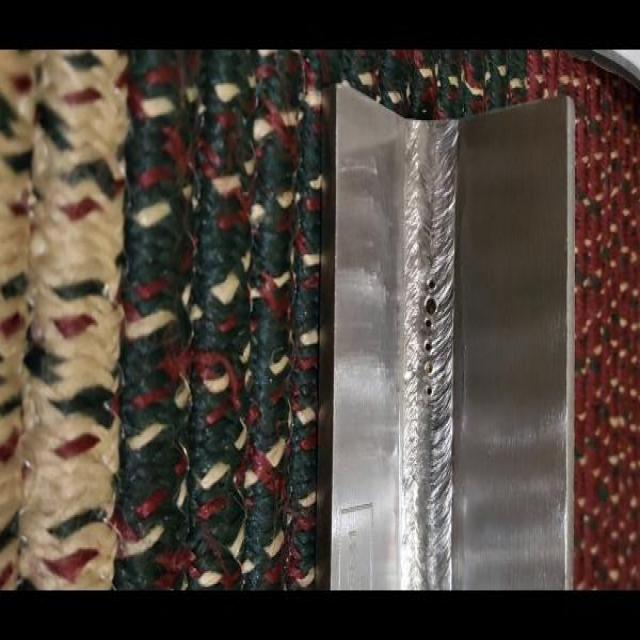Welding Line: (409, 120, 456, 593)
Workpiece: (324, 87, 569, 588)
porosity: (423, 278, 437, 396)
